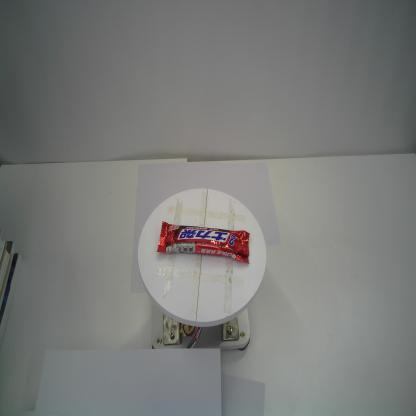Chocolate: (156, 221, 250, 265)
